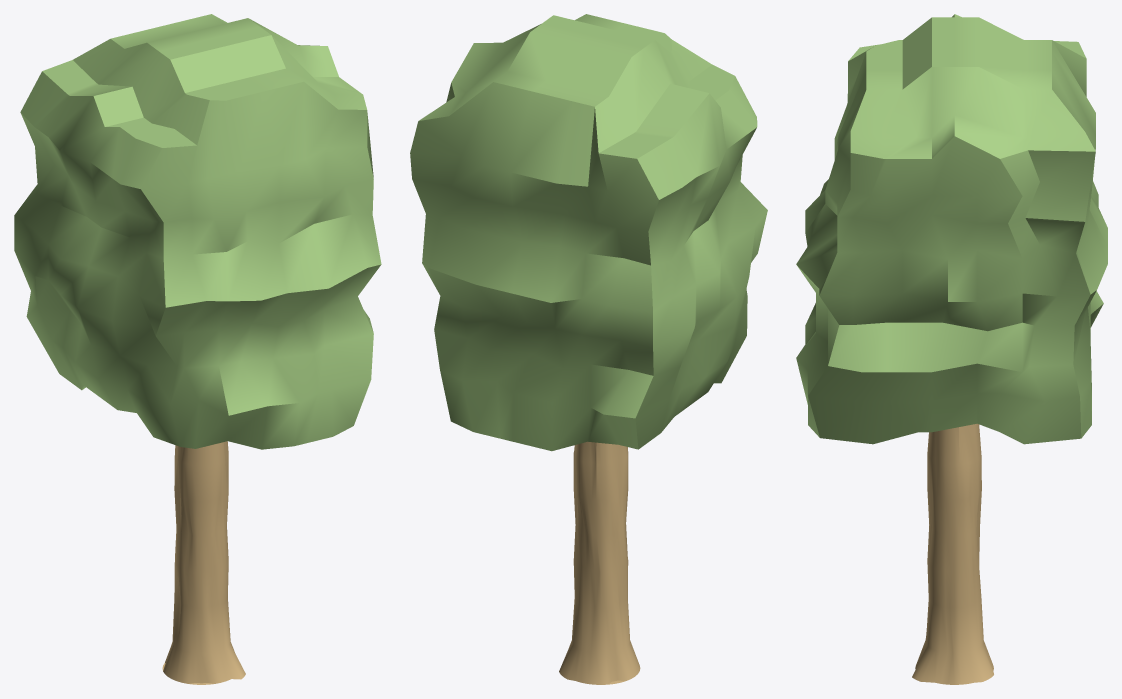
The model's file is Tree_01.fbx.
3 views of the same model, side by side, from view 1: azimuth 30°, elevation 25°; view 2: azimuth 150°, elevation 25°; view 3: azimuth 270°, elevation 25° (orthographic).
Parts seen in each view (by area): view 1: Würfel_1; view 2: Würfel_1; view 3: Würfel_1.
Part boxes in pixels (x1,y1,x2,y2): Würfel_1: (14, 14, 381, 684); Würfel_1: (410, 14, 767, 684); Würfel_1: (796, 14, 1107, 684).
Bounding box in the file's own units: 187 × 439 × 197.
